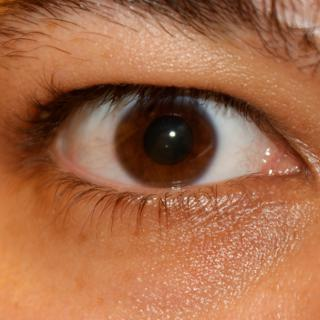pupil: (142, 116, 193, 167)
